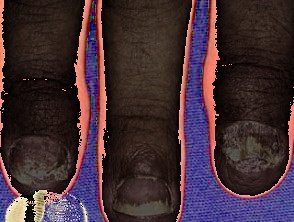Nail_psoriasis: (0, 117, 85, 206), (106, 139, 183, 222), (211, 111, 294, 182)
